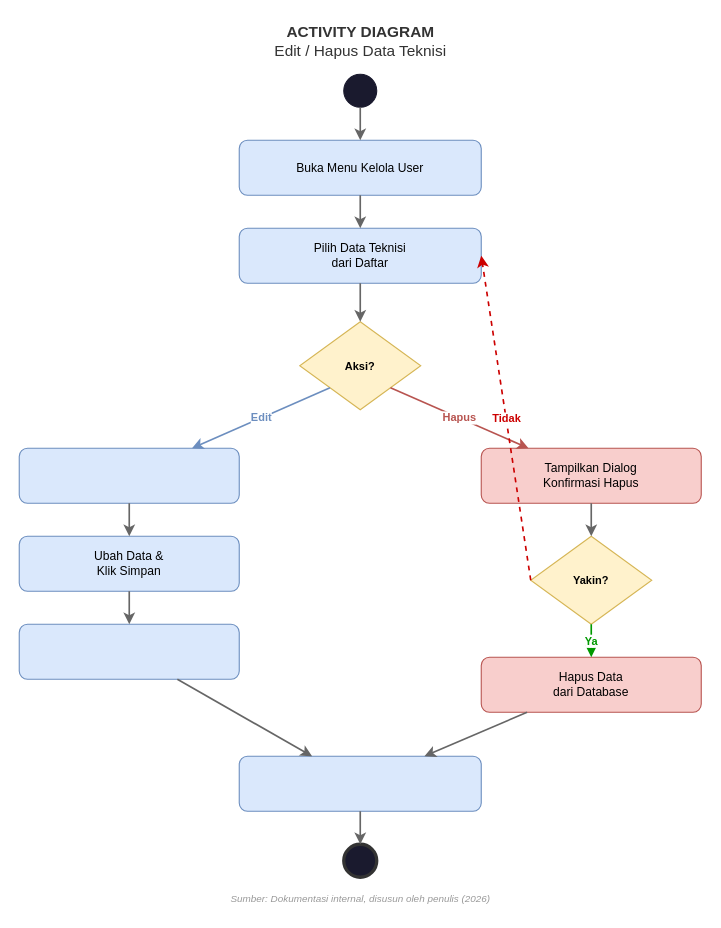
The diagram is 721 pixels wide and 928 high, and some of its shapes have lost their labels. The centre of each missing label's shape, as x and y in pixels:
"Tampilkan Form Edit (Nama, Username)" goes at (128,475).
"Tampilkan Pesan Sukses" goes at (359,783).
"Update Data di Database" goes at (128,651).
